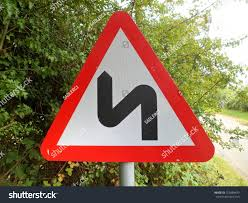Double_bend_left: (28, 8, 220, 169)
